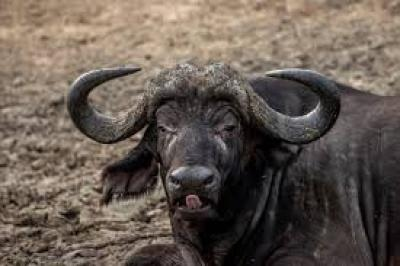buffalo: (69, 62, 399, 265)
